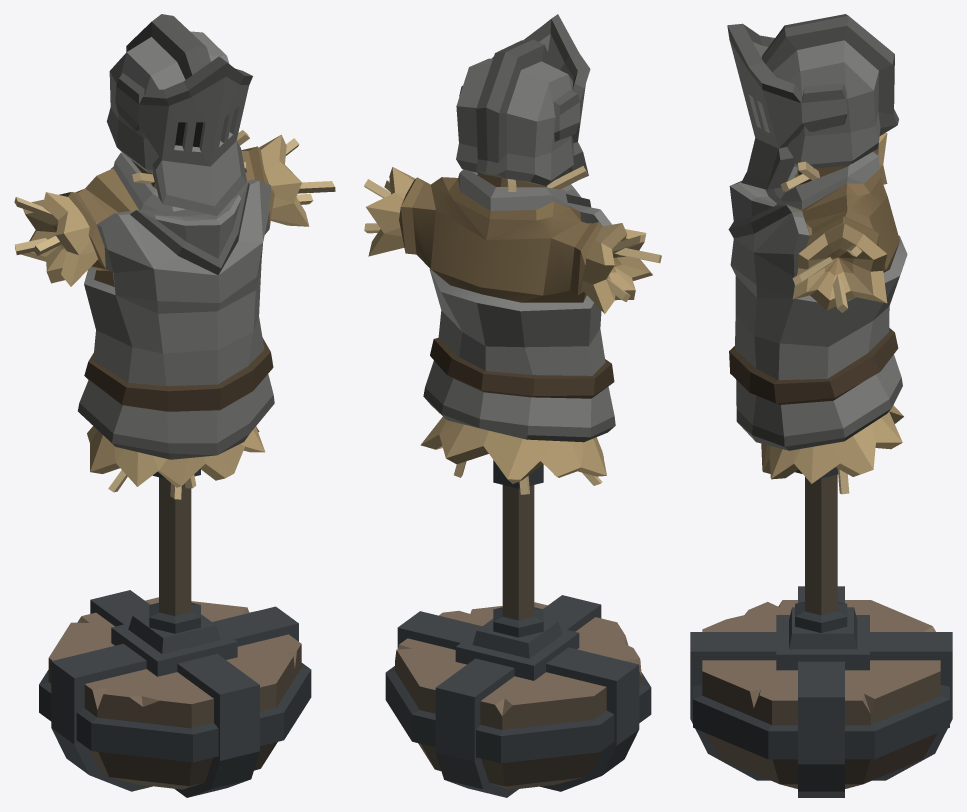
Rendered from castle_armor.gltf.
3 views of the same model, side by side, from view 1: azimuth 30°, elevation 25°; view 2: azimuth 150°, elevation 25°; view 3: azimuth 270°, elevation 25° (orthographic). The views are drawn at different scales.
Visible parts, largest first — view 1: castle_armor; view 2: castle_armor; view 3: castle_armor.
Part boxes in pixels (<box>): castle_armor: <box>14,14,335,797</box>; castle_armor: <box>364,14,661,797</box>; castle_armor: <box>690,14,952,797</box>.
Size of the model in its own units: 0.7293 by 1.78 by 0.5615.
Materials: 1 (1 with a texture image).
